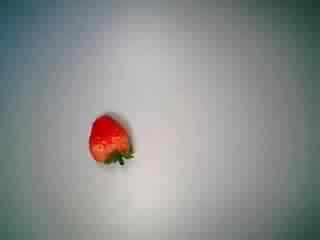strawberry: (77, 105, 143, 171)
